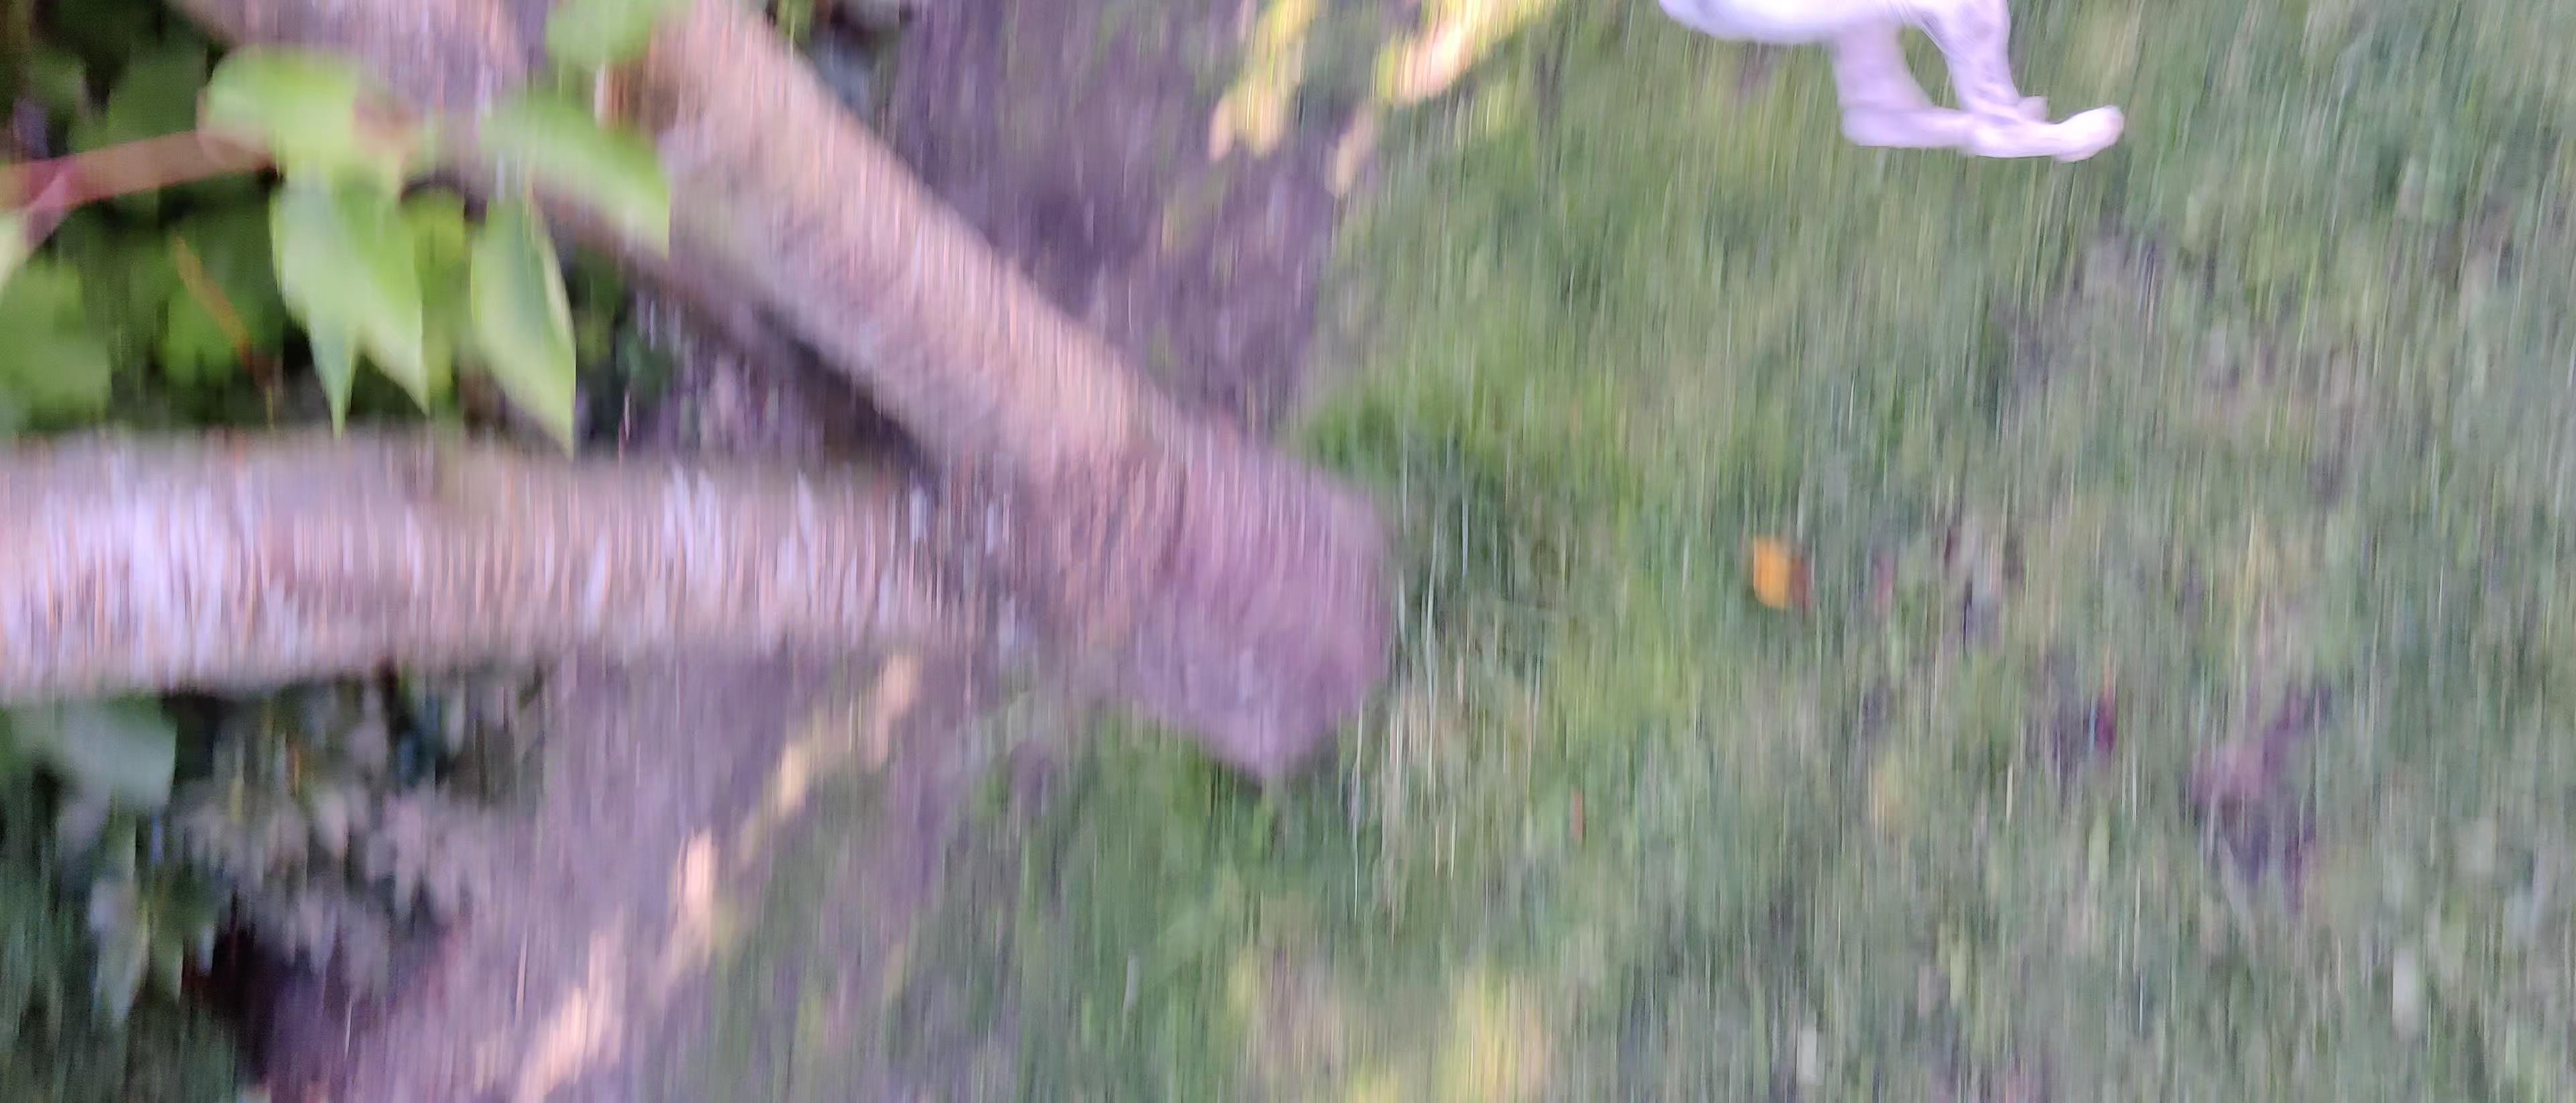Dog: (1625, 0, 2141, 182)
